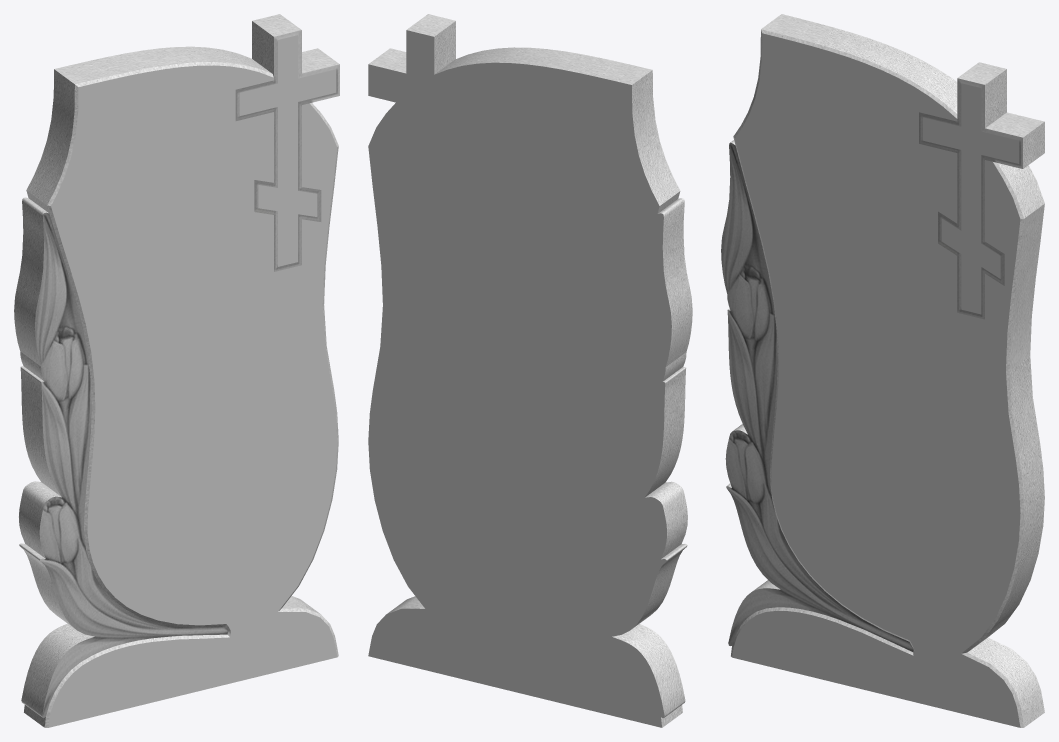
File: cn17d5f29d36_tkf.glb
3 views of the same model, side by side, from view 1: azimuth 30°, elevation 25°; view 2: azimuth 150°, elevation 25°; view 3: azimuth 330°, elevation 25° (orthographic).
Parts seen in each view (by area): view 1: Pam-d01-196, Pam-d01-196_2_notexture; view 2: Pam-d01-196, Pam-d01-196_2_notexture; view 3: Pam-d01-196, Pam-d01-196_2_notexture.
Part boxes in pixels (<box>): Pam-d01-196: <box>48,35,337,727</box>; Pam-d01-196_2_notexture: <box>14,14,339,727</box>; Pam-d01-196: <box>368,30,671,727</box>; Pam-d01-196_2_notexture: <box>368,14,692,727</box>; Pam-d01-196: <box>732,33,1020,727</box>; Pam-d01-196_2_notexture: <box>721,14,1044,727</box>.
Bounding box in the file's own units: 0.4 × 0.8 × 0.05.
Materials: 1 (1 with a texture image).
